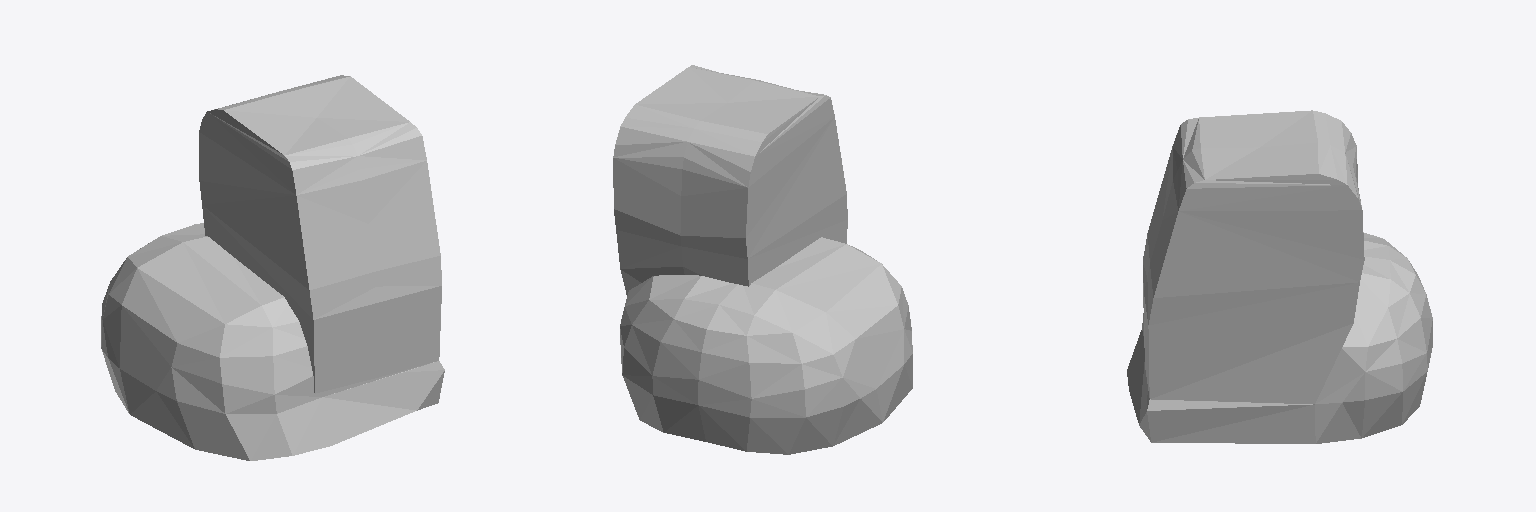
The model's file is Cabin.obj.
The picture shows the model from 3 angles: view 1: azimuth 30°, elevation 25°; view 2: azimuth 150°, elevation 25°; view 3: azimuth 270°, elevation 25°; orthographic projection.
Visible parts, largest first — view 1: Digger_Cabin; view 2: Digger_Cabin; view 3: Digger_Cabin.
Boxes of the visible parts, x1=… form: Digger_Cabin: x1=101, y1=75, x2=444, y2=460; Digger_Cabin: x1=613, y1=65, x2=912, y2=454; Digger_Cabin: x1=1127, y1=110, x2=1432, y2=443.
Bounding box in the file's own units: 262 × 282 × 284.